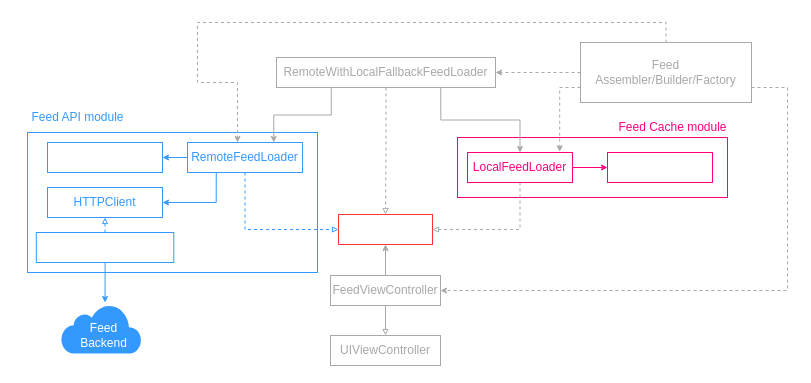
Some shapes in this 811 by 383 pixel diagram are drawn without their labels. Each missing label, with the box of its shape:
<Feed Feature>: (338, 214, 432, 244)
<FeedStore>: (606, 152, 712, 182)
FeedItemsMapper: (46, 142, 162, 172)
URLSessionHTTPClient: (35, 232, 174, 262)
